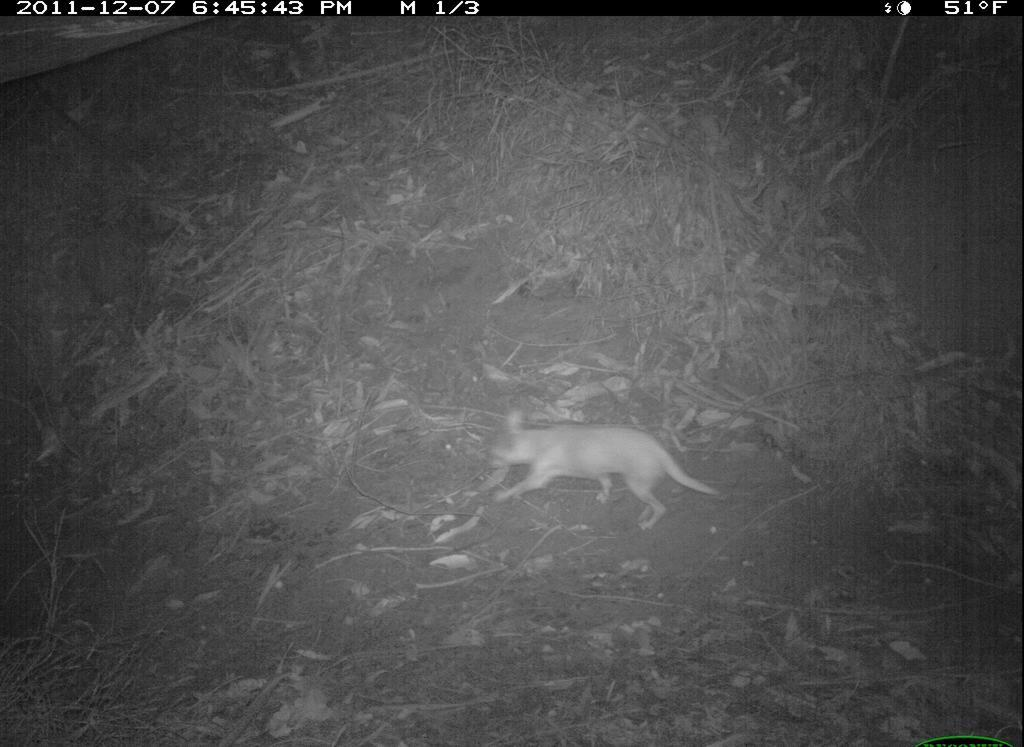dog: (489, 408, 720, 539)
